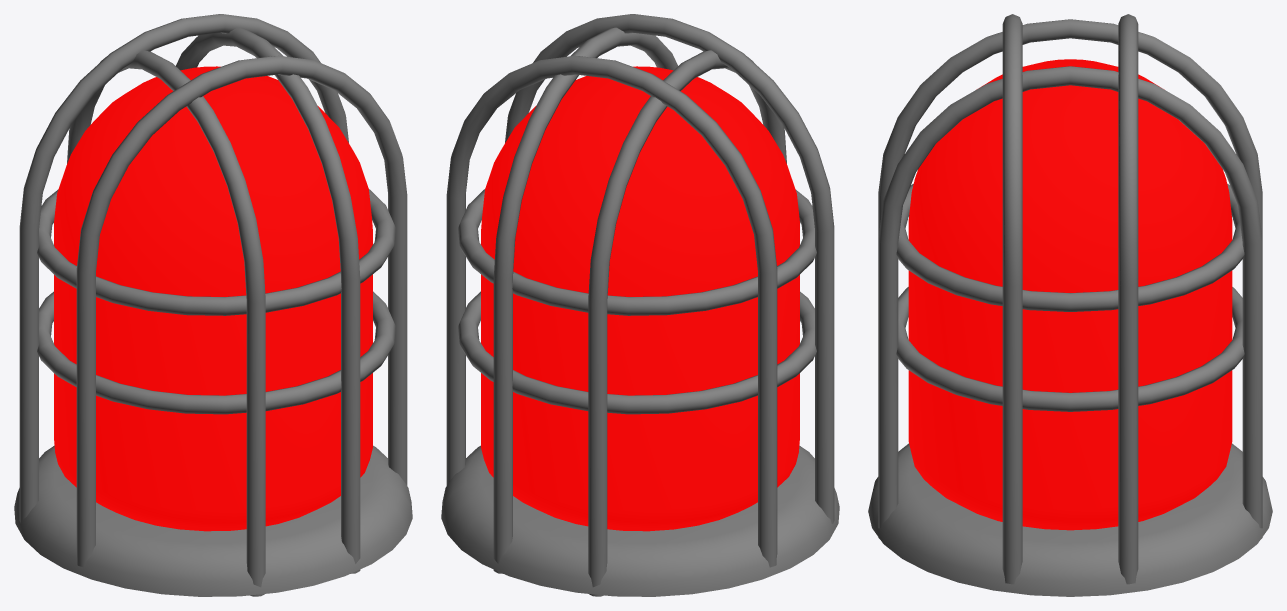
File: CageLight.fbx
The picture shows the model from 3 angles, left to right: view 1: azimuth 30°, elevation 25°; view 2: azimuth 150°, elevation 25°; view 3: azimuth 270°, elevation 25°; orthographic projection.
Visible parts, largest first — view 1: CageLight; view 2: CageLight; view 3: CageLight.
Part boxes in pixels (<box>): CageLight: <box>14,14,412,596</box>; CageLight: <box>441,14,839,596</box>; CageLight: <box>868,14,1272,596</box>.
Bounding box in the file's own units: 15 × 19.73 × 15.
